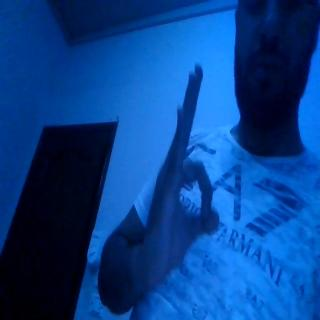Space: (140, 49, 223, 278)
